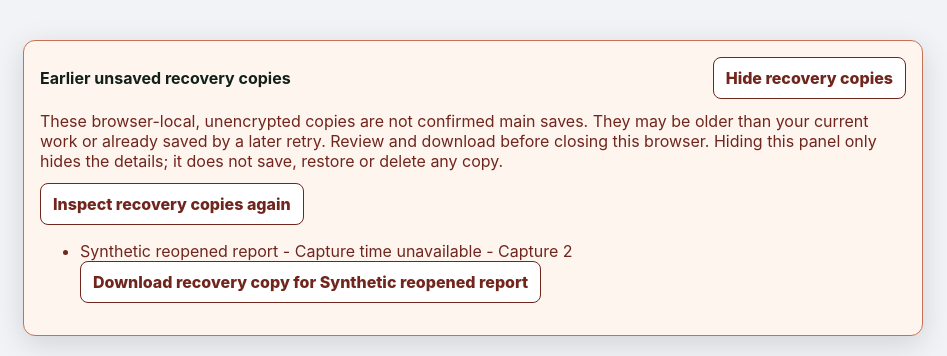
it: permits hiding during an inspection without losing its result or reopening on unchanged copies
This screenshot has width=947, height=356.
Click the button "Inspect recovery copies again" at x=172, y=204, box [40,183,304,225]
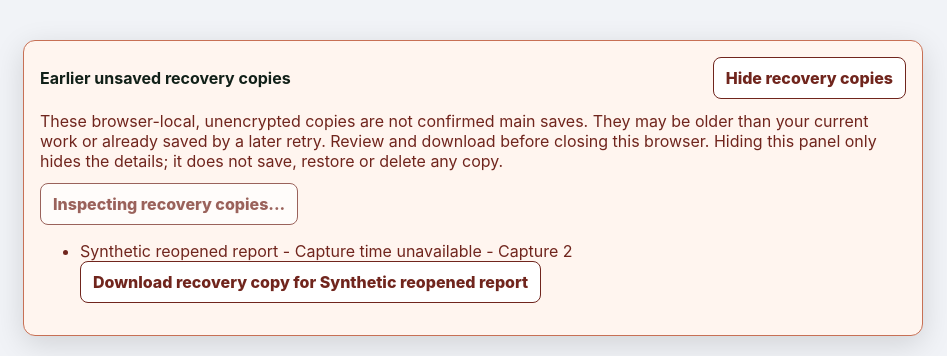
Expected: the button "Inspecting recovery copies..." is disabled, [40,183,298,225]
Click the button "Hide recovery copies" at x=809, y=78, box [713,57,906,99]
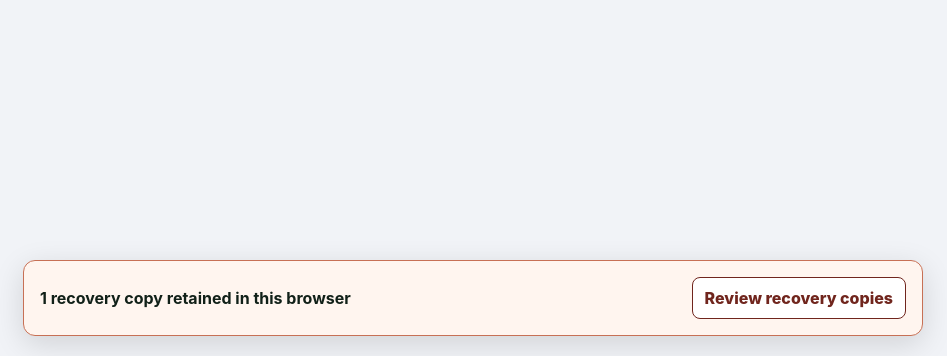
Click the button "Review recovery copies" at x=799, y=298, box [692,277,906,319]
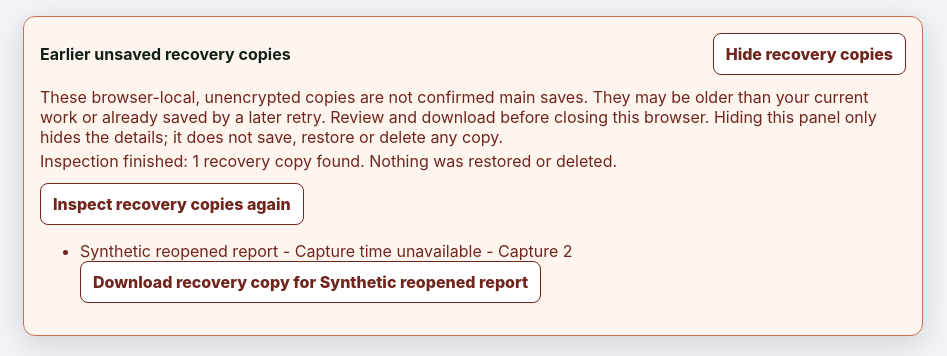
Expected: the text "Inspection finished: 1 recovery copy found." is shown, [40,151,617,171]
